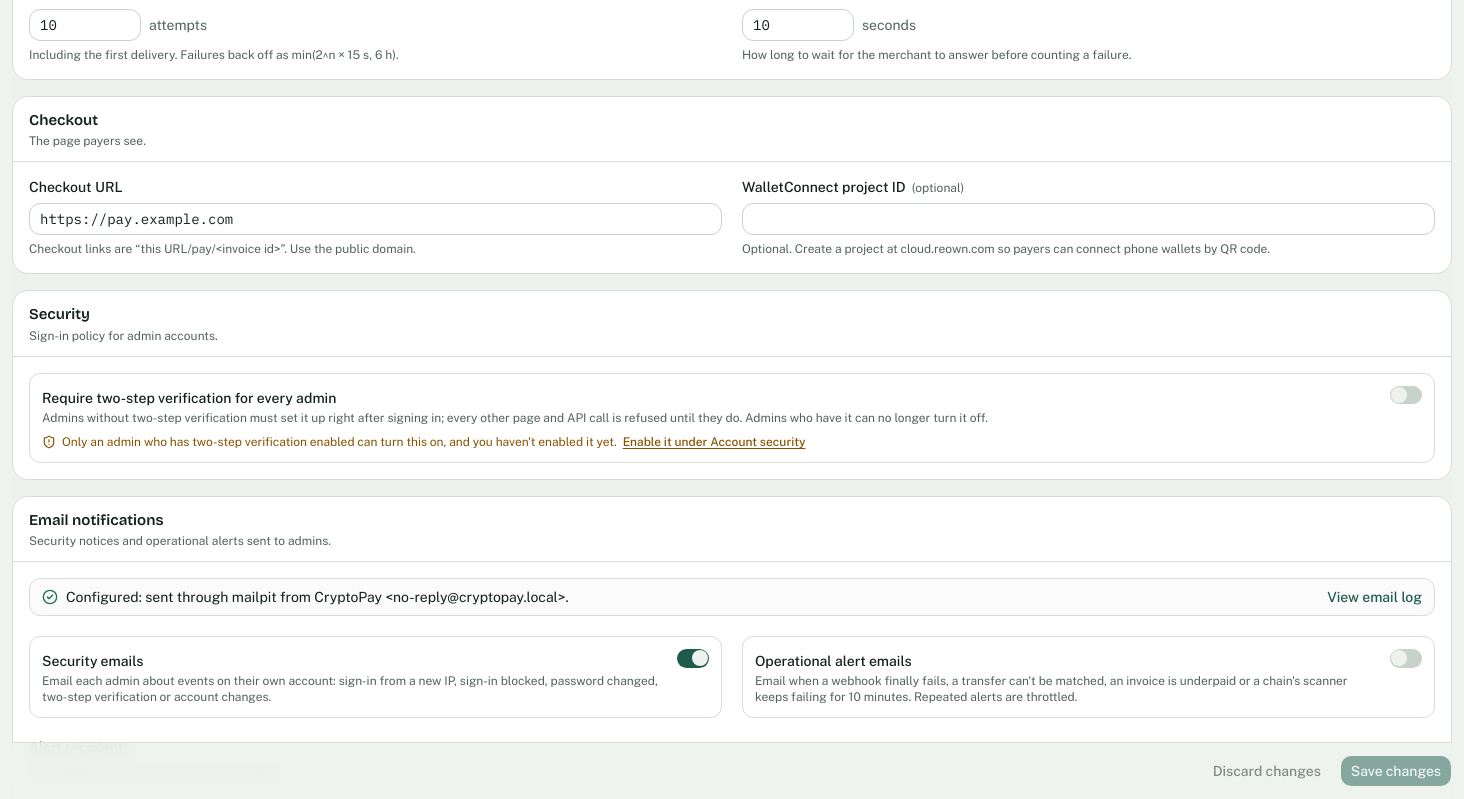
Scenario: SettingsForm · security and email › explains the precondition and surfaces the 409 on the switch
The image size is (1464, 799).
(page scrolled)
Expected: the text "you haven't enabled it yet" is shown, [62,435,617,449]
Click the 1st switch named "Require two-step verification for every admin". click: (1406,395)
box: [1390,386,1422,404]
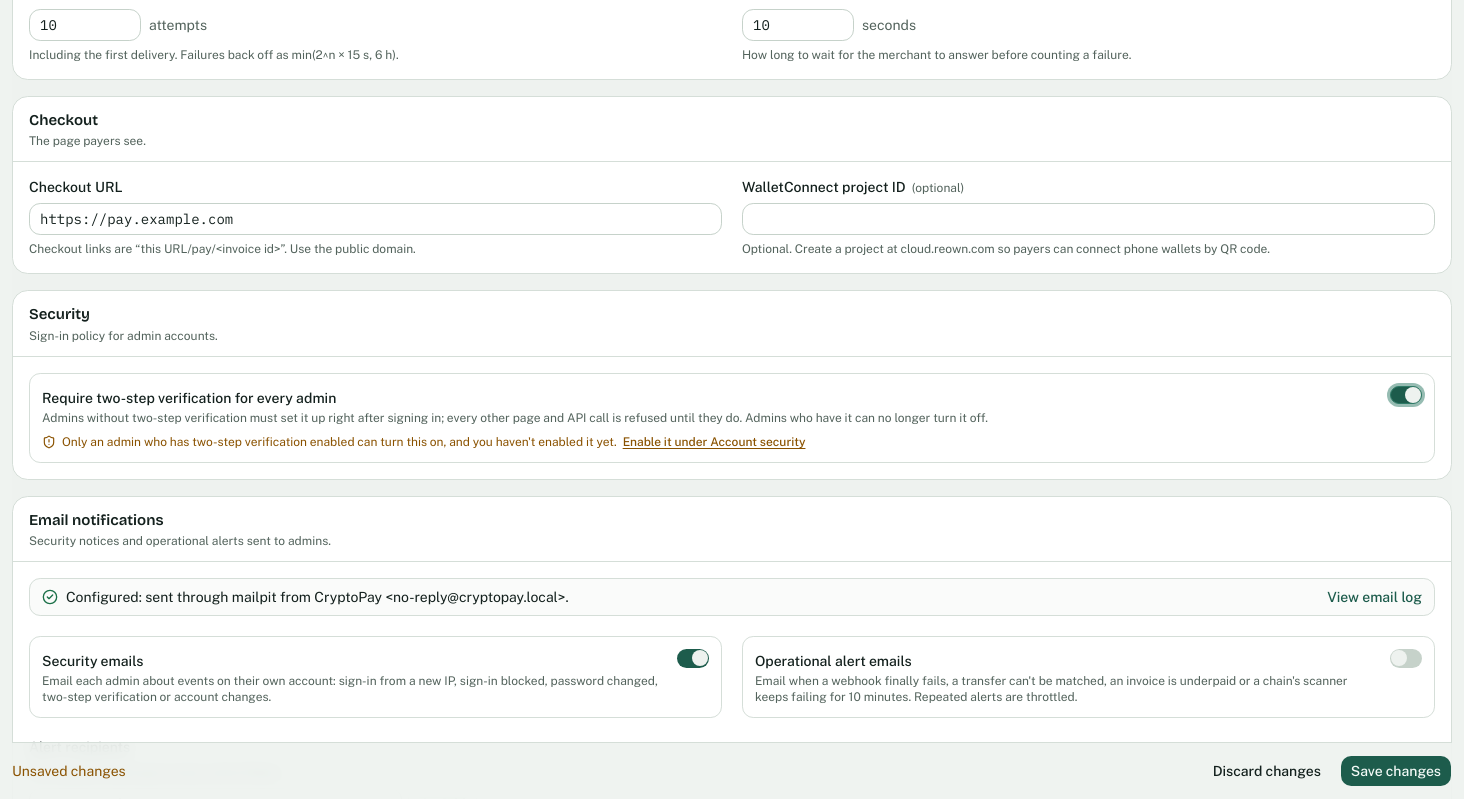
Click the button "Save changes". click: (1396,771)
box: [1340,755,1452,787]
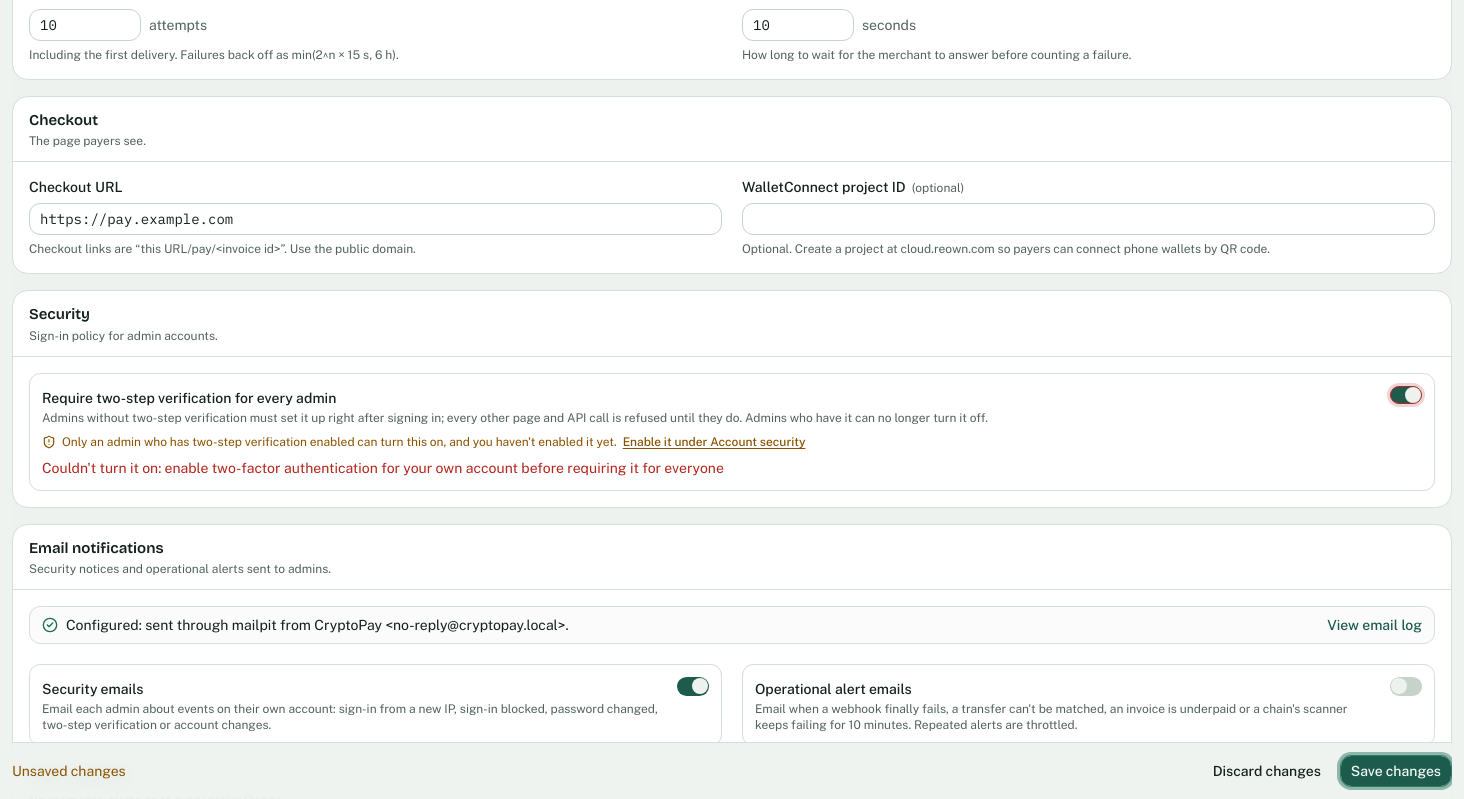
Expected: the text "Couldn't turn it on: enable two-factor authentication for your own account before requiring it for everyone" is shown, [42,460,724,476]
